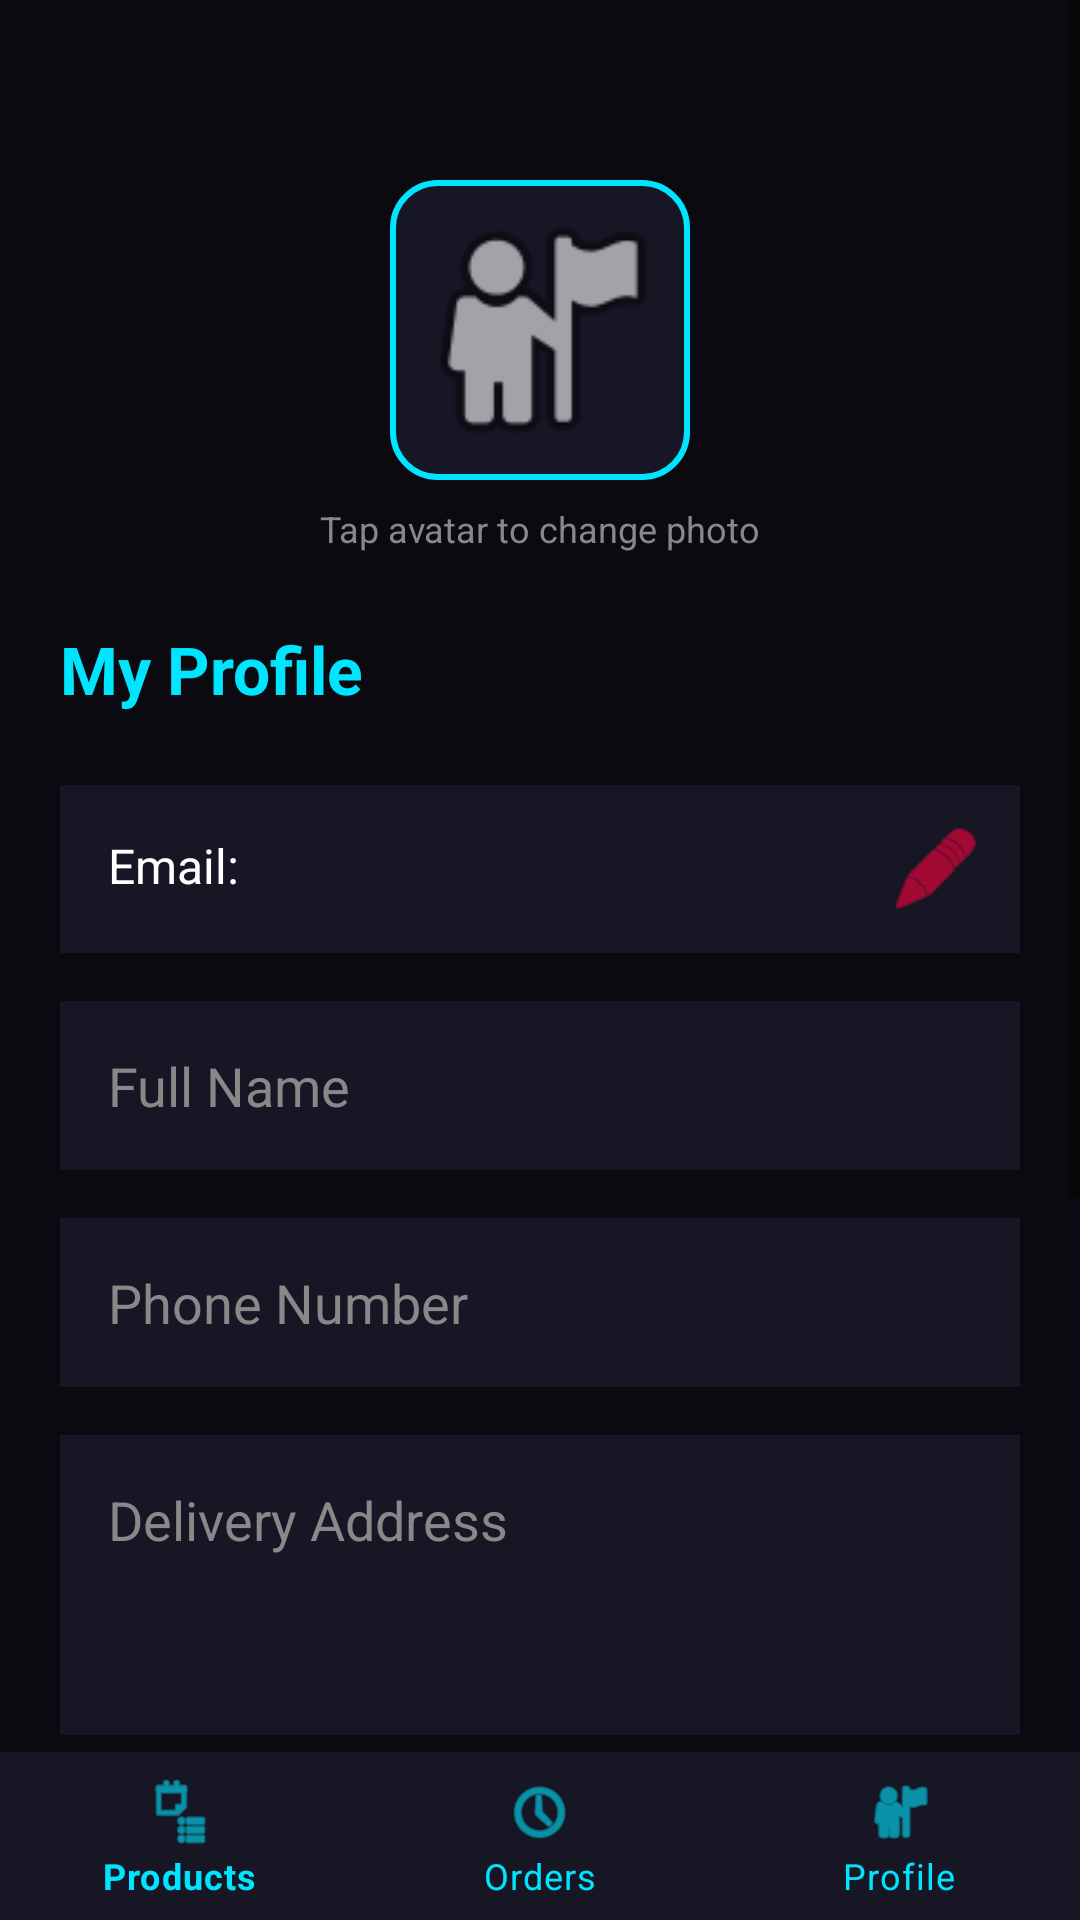

Locate icon controls on the screen. Image size 1080px×1920px, boxes as (x1, y1, x2, y2).
edit: (895, 828, 976, 909)
myplaces: (390, 180, 690, 480)
